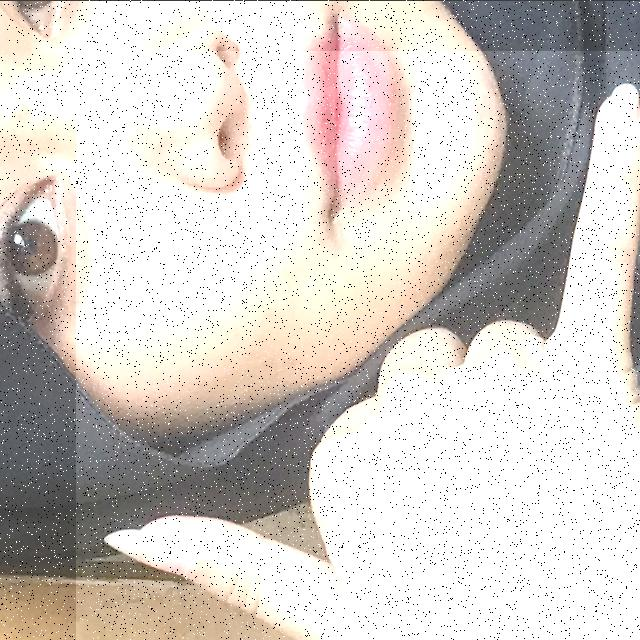telpon: (76, 50, 640, 640)
